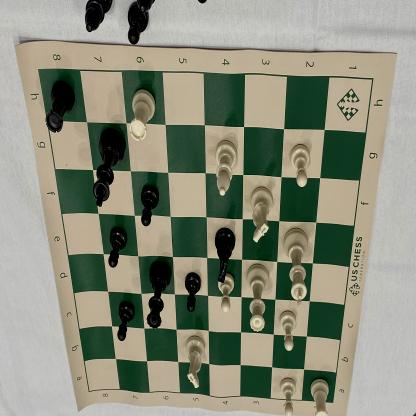black-king: (92, 124, 126, 209)
black-knight: (214, 228, 238, 284)
black-pawn: (139, 184, 161, 228), (107, 226, 129, 269), (183, 271, 204, 314), (116, 300, 135, 343)
black-queen: (146, 259, 172, 328)
black-rook: (46, 79, 77, 135)
white-bishop: (214, 138, 239, 197)
white-king: (282, 227, 312, 308)
white-knight: (249, 185, 274, 245)
white-pawn: (289, 142, 312, 189), (278, 310, 298, 353), (278, 375, 298, 416), (217, 272, 236, 314)
white-queen: (245, 262, 272, 335)
white-rook: (128, 86, 157, 146), (308, 376, 332, 416)
